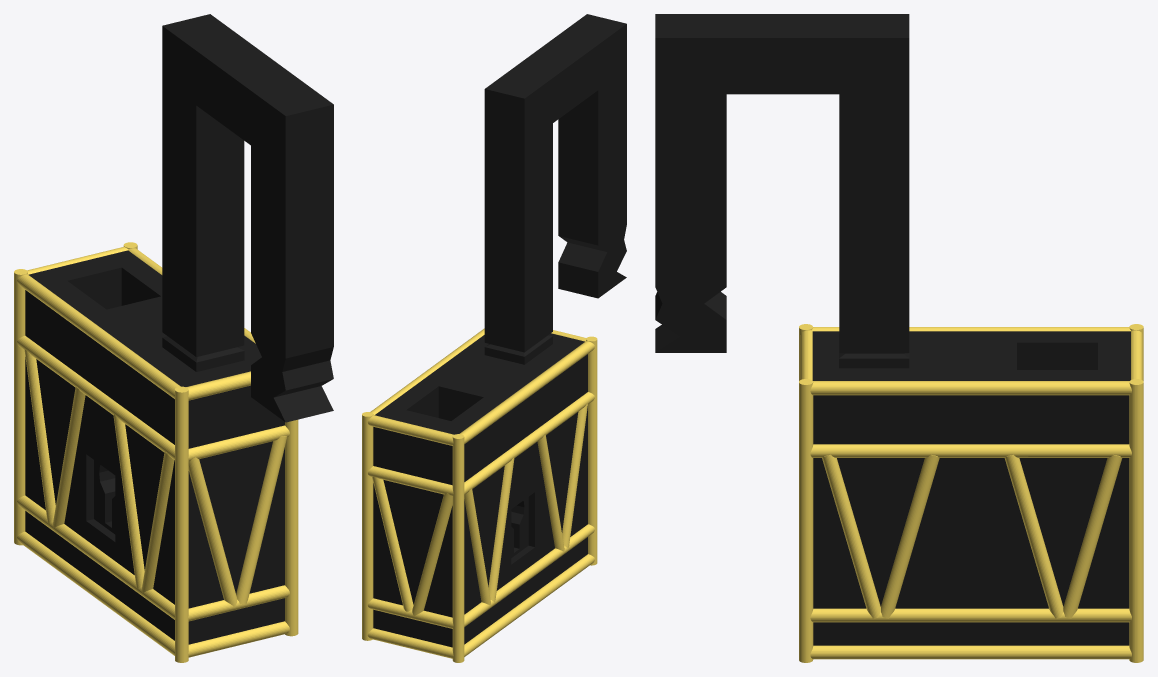
Rendered from lock_OM -1.fbx.
The picture shows the model from 3 angles, left to right: view 1: azimuth 30°, elevation 25°; view 2: azimuth 150°, elevation 25°; view 3: azimuth 270°, elevation 25°; orthographic projection. The views are drawn at different scales.
Parts seen in each view (by area): view 1: Cylinder.750; view 2: Cylinder.750; view 3: Cylinder.750.
Part boxes in pixels (x1=…): Cylinder.750: x1=14, y1=14, x2=333, y2=662; Cylinder.750: x1=362, y1=14, x2=626, y2=662; Cylinder.750: x1=655, y1=14, x2=1143, y2=662.
Size of the model in its own units: 2.02 by 9.38 by 6.85.
